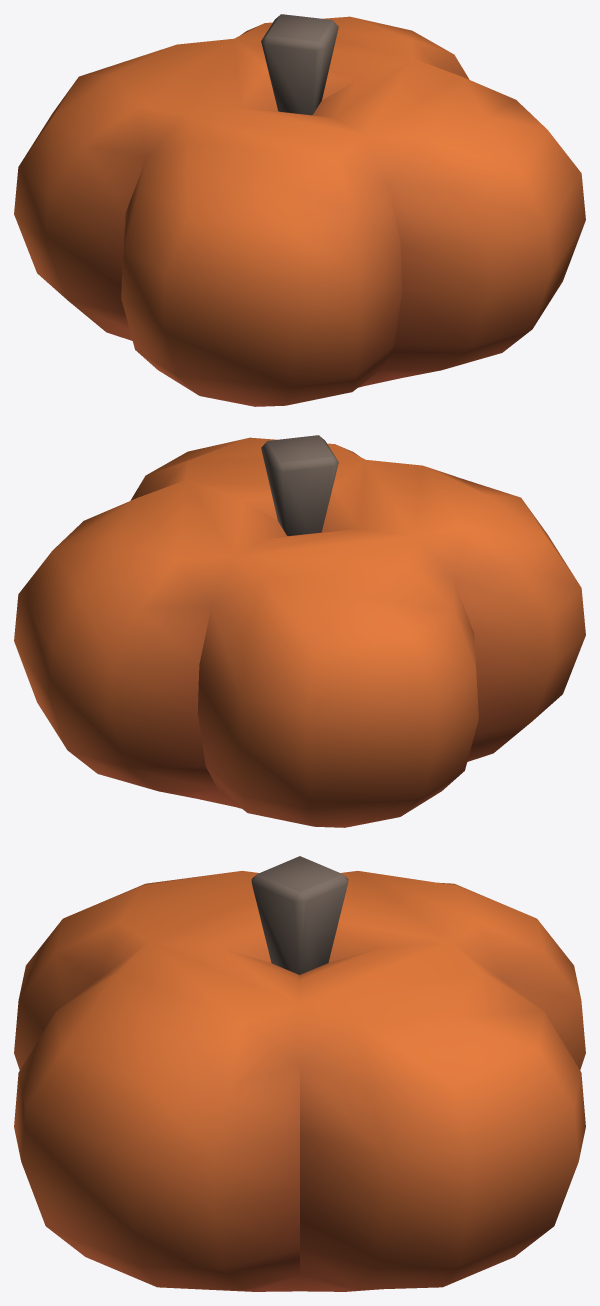
The model's file is hw-pumpkin_orange.glb.
3 renders of one model, top to bottom at view 1: azimuth 30°, elevation 25°; view 2: azimuth 150°, elevation 25°; view 3: azimuth 270°, elevation 25°, orthographic. The views are drawn at different scales.
Visible parts, largest first — view 1: pumpkin_orange; view 2: pumpkin_orange; view 3: pumpkin_orange.
Part boxes in pixels (left/top/right/bottom): pumpkin_orange: left=14, top=14, right=585, bottom=406; pumpkin_orange: left=14, top=435, right=585, bottom=827; pumpkin_orange: left=14, top=856, right=585, bottom=1291.
Size of the model in its own units: 1 by 0.7 by 1.
1 material, 1 textured.
